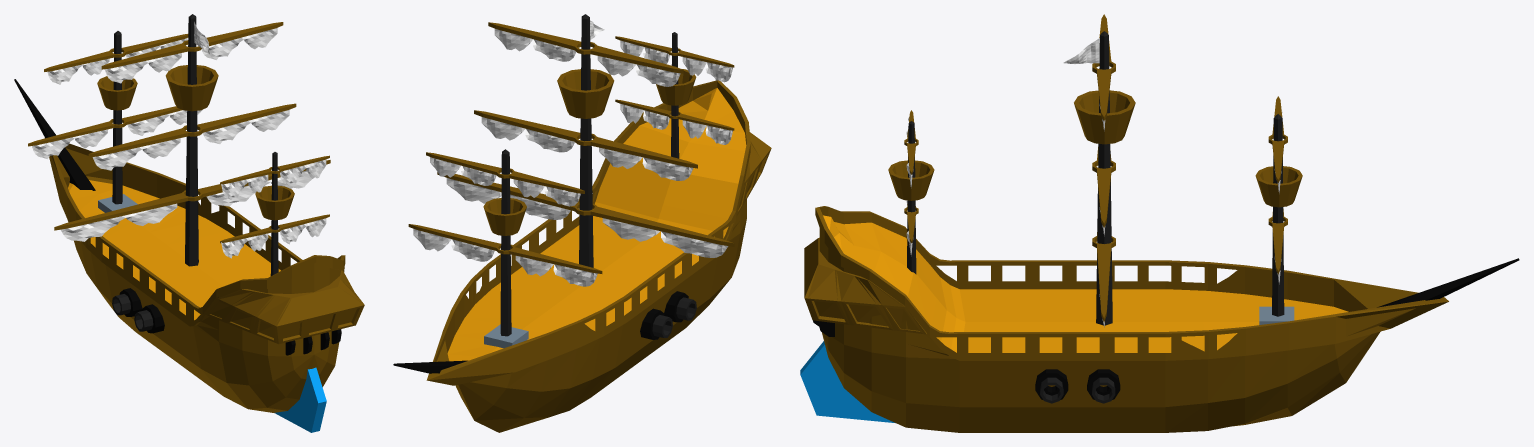
Rendered from Barco.gltf.
3 views of the same model, side by side, from view 1: azimuth 30°, elevation 25°; view 2: azimuth 150°, elevation 25°; view 3: azimuth 270°, elevation 25° (orthographic). The views are drawn at different scales.
Visible parts, largest first — view 1: object 24, object 23, object 22, Tubo_10, Cubo (×2), Cilindro_7, Cilindro, Plano_1, Plano, Plano_2, Cubo_4, Plano_6 (+7 smaller); view 2: object 23, object 24, object 22, Tubo_10, Cilindro_7, Cilindro, Plano_1, Plano, Plano_6, Plano_2, Cubo (×2), Plano_5 (+5 smaller); view 3: object 24, object 22, object 23, Cubo, Cilindro, Tubo_10, Cilindro_7, Cubo_4, Tubo_7, Cilindro_6, Tubo_11.
Boxes of the visible parts, left/top/right/bottom form: object 24: left=67, top=220, right=341, bottom=412; object 23: left=68, top=180, right=280, bottom=320; object 22: left=49, top=143, right=345, bottom=326; Tubo_10: left=28, top=22, right=330, bottom=243; Cubo (×2): left=98, top=194, right=364, bottom=344; Cilindro_7: left=112, top=14, right=278, bottom=275; Cilindro: left=97, top=65, right=294, bottom=220; Plano_1: left=60, top=170, right=314, bottom=241; Plano: left=92, top=109, right=289, bottom=170; Plano_2: left=104, top=28, right=277, bottom=83; Cubo_4: left=274, top=367, right=326, bottom=432; Plano_6: left=32, top=109, right=202, bottom=158; object 23: left=447, top=88, right=746, bottom=361; object 24: left=455, top=199, right=746, bottom=432; object 22: left=426, top=80, right=750, bottom=385; Tubo_10: left=408, top=22, right=734, bottom=273; Cilindro_7: left=500, top=14, right=679, bottom=336; Cilindro: left=483, top=69, right=696, bottom=235; Plano_1: left=446, top=178, right=728, bottom=257; Plano: left=481, top=117, right=693, bottom=180; Plano_6: left=413, top=228, right=597, bottom=286; Plano_2: left=494, top=29, right=680, bottom=86; Cubo (×2): left=484, top=132, right=771, bottom=348; Plano_5: left=430, top=157, right=580, bottom=206; object 24: left=819, top=228, right=1380, bottom=432; object 22: left=815, top=206, right=1448, bottom=360; object 23: left=823, top=215, right=1348, bottom=352; Cubo: left=804, top=237, right=926, bottom=334; Cilindro: left=888, top=90, right=1302, bottom=207; Tubo_10: left=904, top=14, right=1287, bottom=322; Cilindro_7: left=907, top=31, right=1284, bottom=325; Cubo_4: left=800, top=341, right=895, bottom=423; Tubo_7: left=1035, top=369, right=1120, bottom=399; Cilindro_6: left=1377, top=258, right=1519, bottom=307; Tubo_11: left=1040, top=377, right=1115, bottom=403.
Size of the model in its own units: 160 by 189 by 309.
